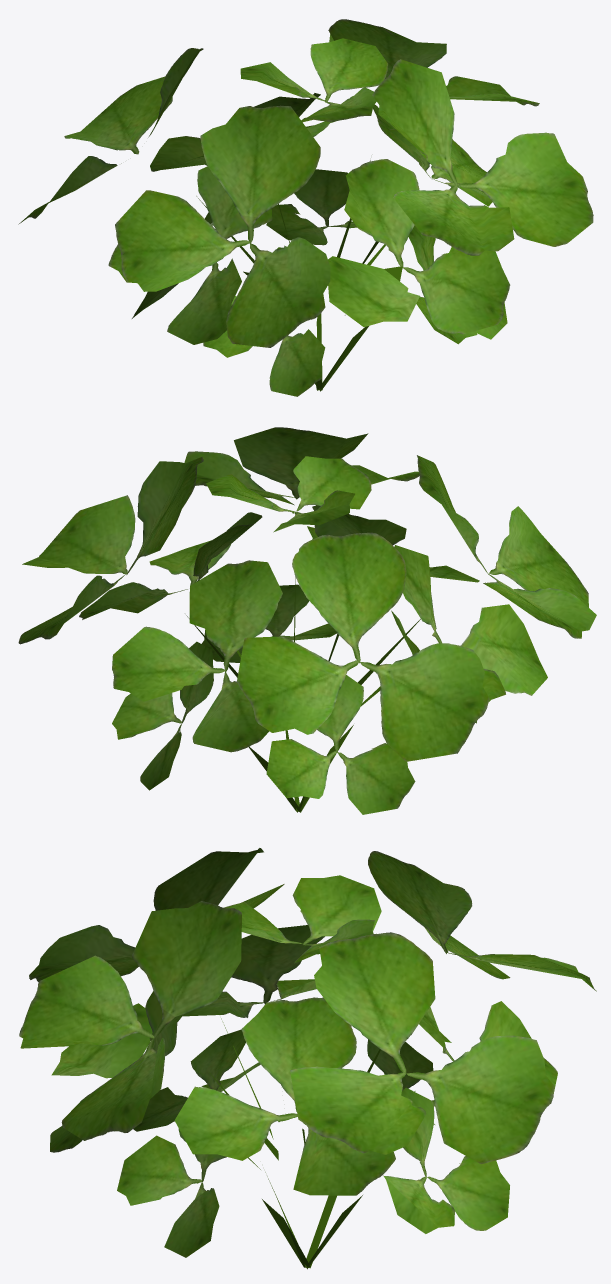
Rendered from taman 1,1.fbx.
The picture shows the model from 3 angles, top to bottom: view 1: azimuth 30°, elevation 25°; view 2: azimuth 150°, elevation 25°; view 3: azimuth 270°, elevation 25°; orthographic projection. The views are drawn at different scales.
Visible parts, largest first — view 1: tanaman_LOD0; view 2: tanaman_LOD0; view 3: tanaman_LOD0.
Part boxes in pixels (bbox=[...]): tanaman_LOD0: bbox=[18, 19, 593, 396]; tanaman_LOD0: bbox=[18, 427, 596, 814]; tanaman_LOD0: bbox=[19, 848, 596, 1269].
Size of what is drawn, in the model's own units: 84.97 by 59.46 by 80.95.
